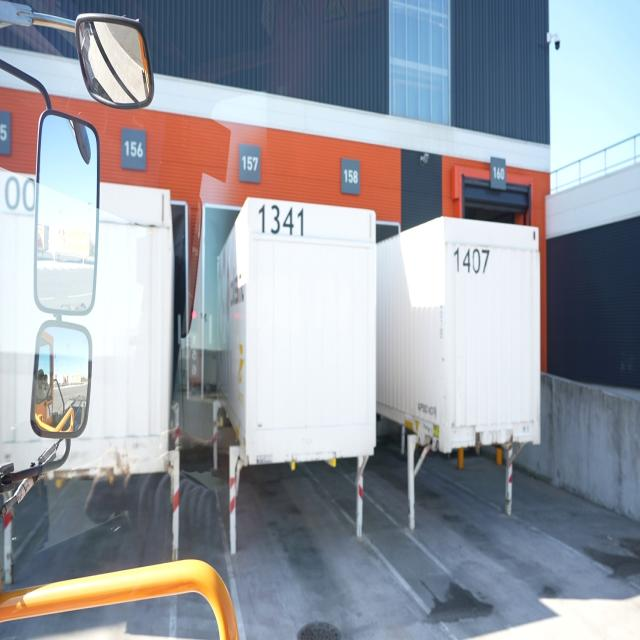Code: (258, 199, 310, 245), (451, 241, 494, 277)
